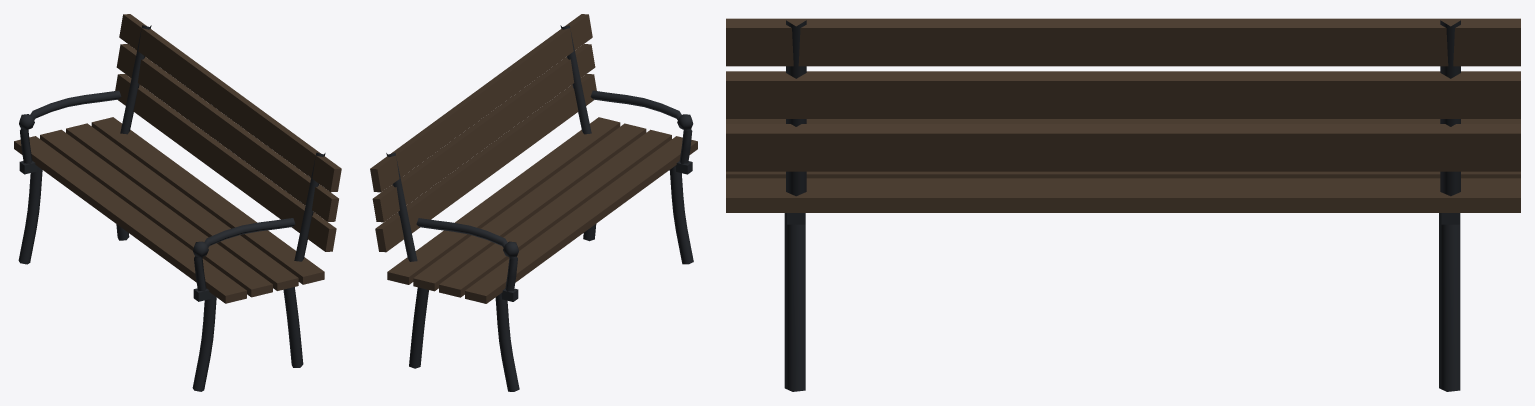
File: bench.glb
3 renders of one model, left to right at view 1: azimuth 30°, elevation 25°; view 2: azimuth 150°, elevation 25°; view 3: azimuth 270°, elevation 25°, orthographic. The views are drawn at different scales.
Visible parts, largest first — view 1: bench_mesh; view 2: bench_mesh; view 3: bench_mesh.
Boxes of the visible parts, x1,y1,x2,y2 form: bench_mesh: (14, 14, 341, 391); bench_mesh: (370, 14, 697, 391); bench_mesh: (726, 18, 1520, 391).
Size of the model in its own units: 0.6164 by 0.9294 by 1.7.
